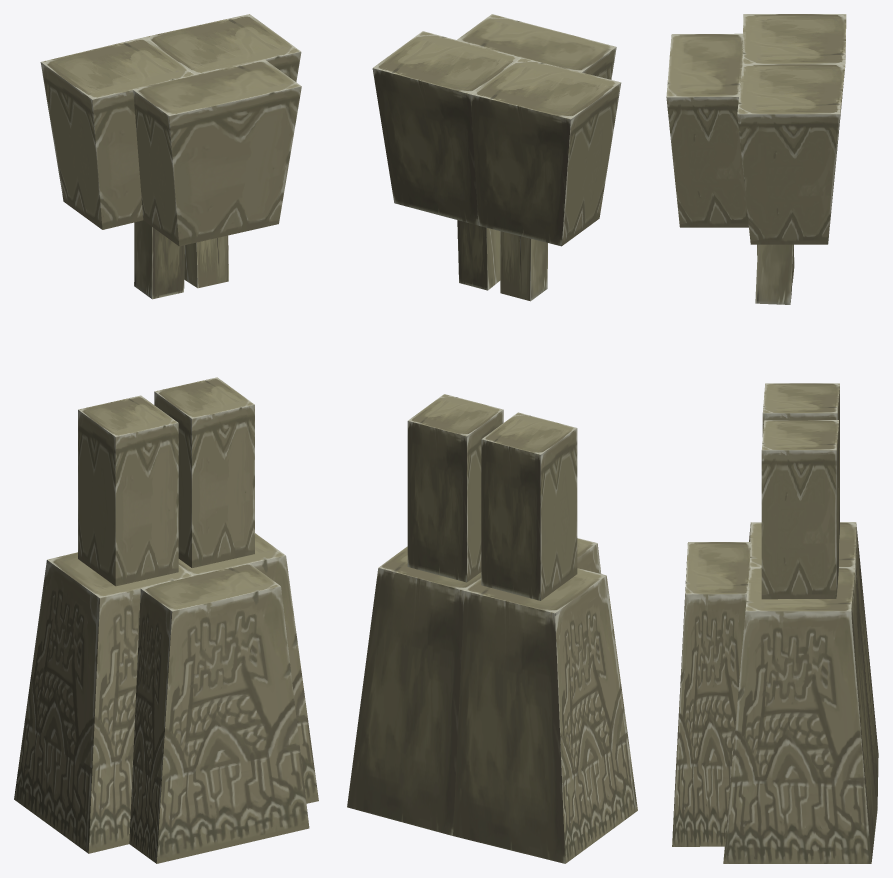
Rendered from pillar_missingmiddle.fbx.
3 views of the same model, side by side, from view 1: azimuth 30°, elevation 25°; view 2: azimuth 150°, elevation 25°; view 3: azimuth 270°, elevation 25° (orthographic). The views are drawn at different scales.
Visible parts, largest first — view 1: polySurface105; view 2: polySurface105; view 3: polySurface105.
Boxes of the visible parts, x1,y1,x2,y2 form: polySurface105: [14, 14, 318, 863]; polySurface105: [347, 14, 637, 863]; polySurface105: [666, 14, 878, 863].
Size of the model in its own units: 0.6362 by 2 by 0.5162.
